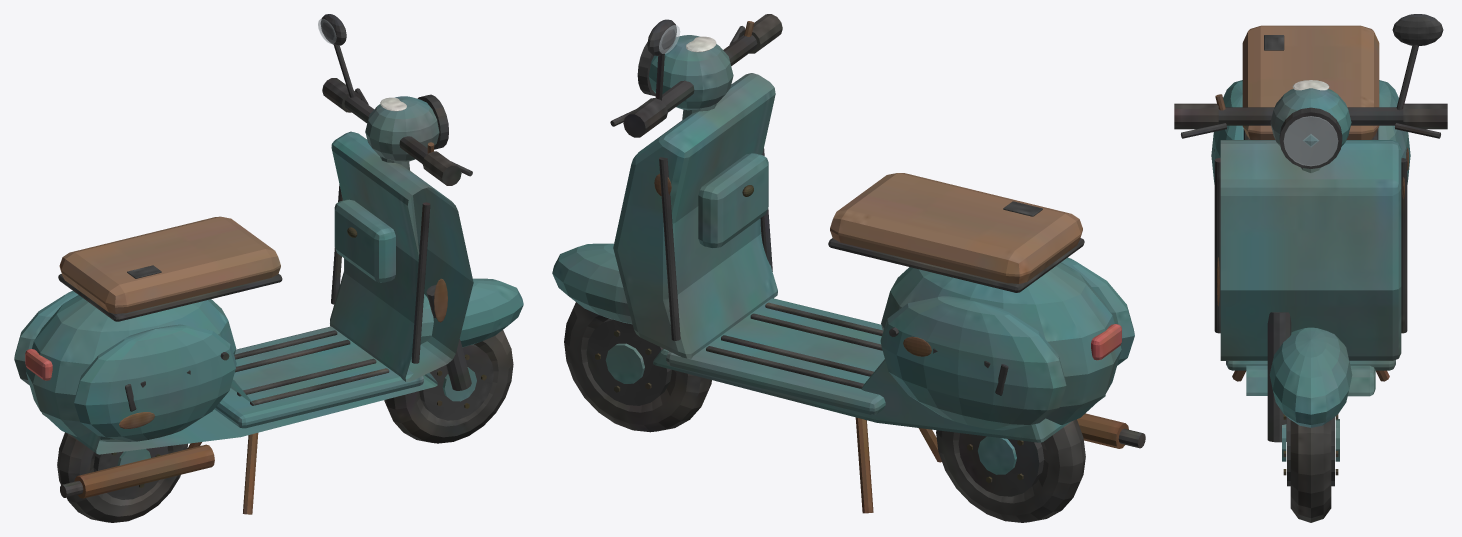
The model's file is CV17_vespa_style_scooter.glb.
The picture shows the model from 3 angles, left to right: view 1: azimuth 30°, elevation 25°; view 2: azimuth 150°, elevation 25°; view 3: azimuth 270°, elevation 25°; orthographic projection. The views are drawn at different scales.
Parts seen in each view (by area): view 1: Aged small wheel tire; view 2: Aged small wheel tire; view 3: Aged small wheel tire.
Part boxes in pixels (box(x1,y1,x2,y2)): Aged small wheel tire: box(14, 14, 523, 522); Aged small wheel tire: box(552, 14, 1145, 522); Aged small wheel tire: box(1174, 14, 1447, 522).
Bounding box in the file's own units: 1.8 × 1.43 × 0.7633.
9 materials, 8 textured.
